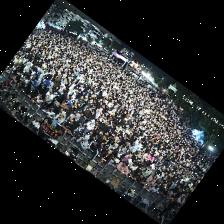person: (87, 140, 100, 164), (41, 89, 53, 107), (59, 101, 70, 119), (98, 149, 112, 163), (52, 89, 63, 106), (62, 119, 74, 134), (76, 135, 88, 149), (43, 106, 58, 117), (127, 169, 140, 181), (69, 114, 79, 129), (53, 111, 65, 123), (141, 164, 153, 176), (100, 138, 111, 151), (116, 161, 127, 174), (84, 120, 94, 134), (29, 94, 43, 104), (78, 105, 89, 117), (29, 75, 36, 93), (72, 128, 83, 139), (84, 111, 95, 122), (115, 147, 125, 159), (132, 157, 144, 167), (40, 75, 50, 87), (73, 122, 85, 132), (92, 131, 104, 141), (84, 130, 94, 141), (157, 186, 168, 196), (145, 175, 157, 184), (29, 86, 38, 98), (150, 183, 160, 193), (128, 161, 137, 172), (22, 82, 30, 94), (53, 75, 60, 87), (24, 69, 30, 83), (145, 152, 154, 161), (155, 176, 165, 184), (78, 111, 84, 123), (109, 159, 118, 167), (136, 150, 145, 158), (12, 73, 19, 83), (107, 142, 117, 149), (94, 108, 101, 118), (165, 190, 171, 201), (93, 124, 101, 132), (125, 154, 133, 162), (169, 192, 176, 201), (8, 70, 15, 78), (18, 81, 24, 89), (19, 72, 24, 81), (138, 167, 145, 172), (120, 156, 127, 161), (5, 68, 11, 73)
